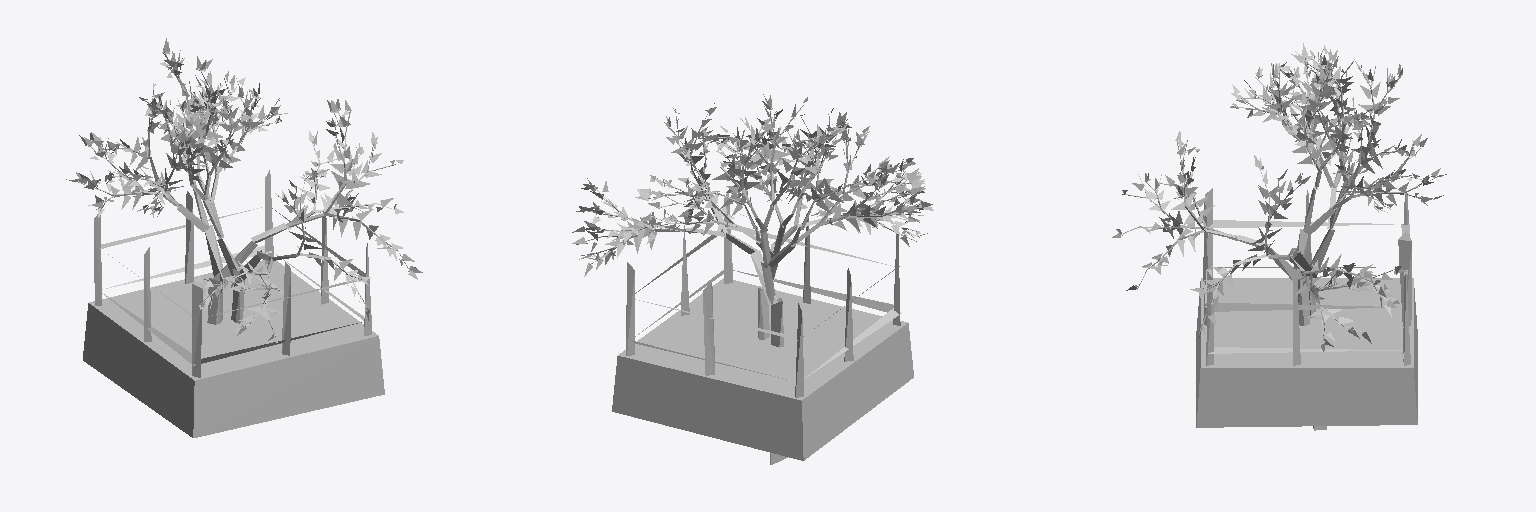
File: decimatedplant0.1.obj
The picture shows the model from 3 angles: view 1: azimuth 30°, elevation 25°; view 2: azimuth 150°, elevation 25°; view 3: azimuth 270°, elevation 25°; orthographic projection.
Visible parts, largest first — view 1: objPlant.008; view 2: objPlant.008; view 3: objPlant.008.
Part boxes in pixels (left/top/right/bottom): objPlant.008: left=66, top=38, right=422, bottom=437; objPlant.008: left=572, top=94, right=933, bottom=464; objPlant.008: left=1112, top=43, right=1446, bottom=430.
Size of the model in its own units: 0.5619 by 0.5857 by 0.4811.